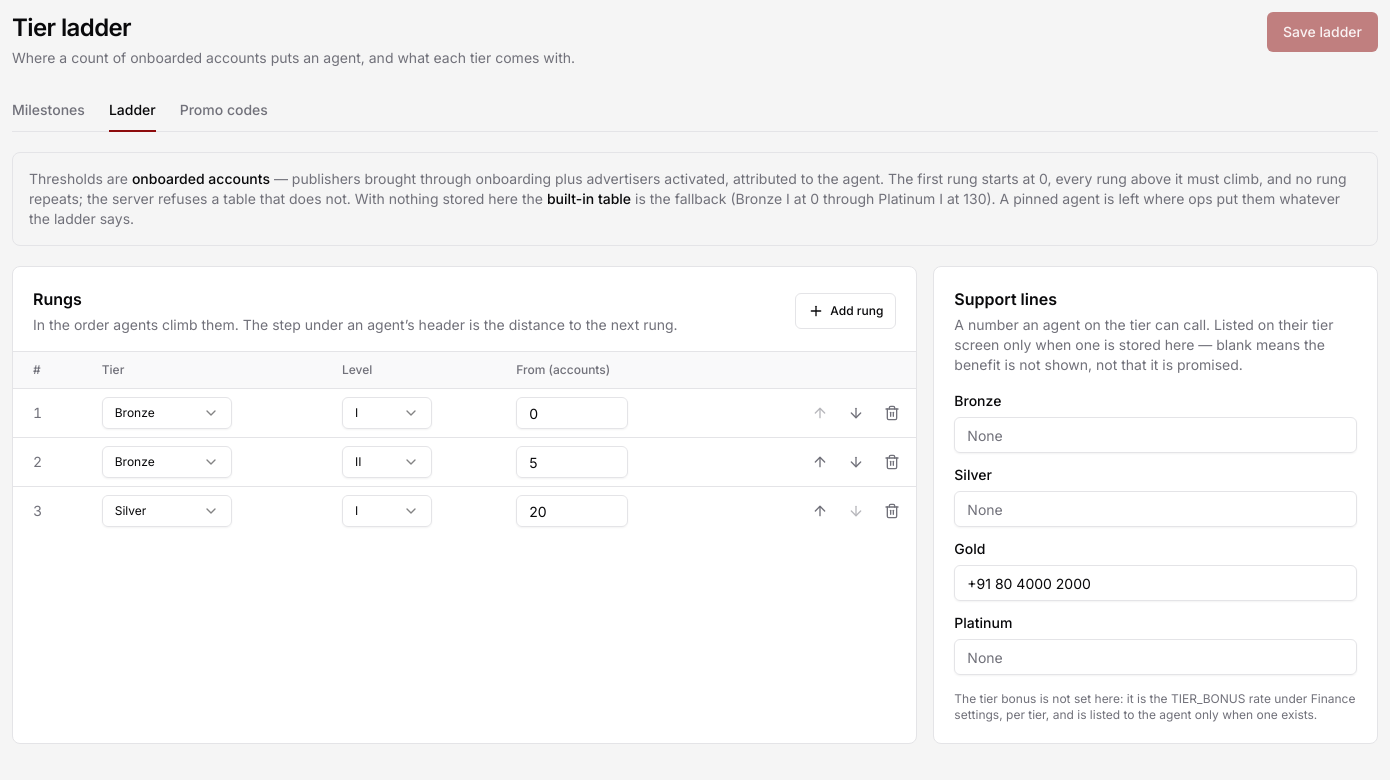
it: saving › surfaces the server's sentence beside the table when the ladder does not climb, and claims no save
Replace the text in the 3rd number field named "From" with "3": x=572, y=511 [516,495,628,527]
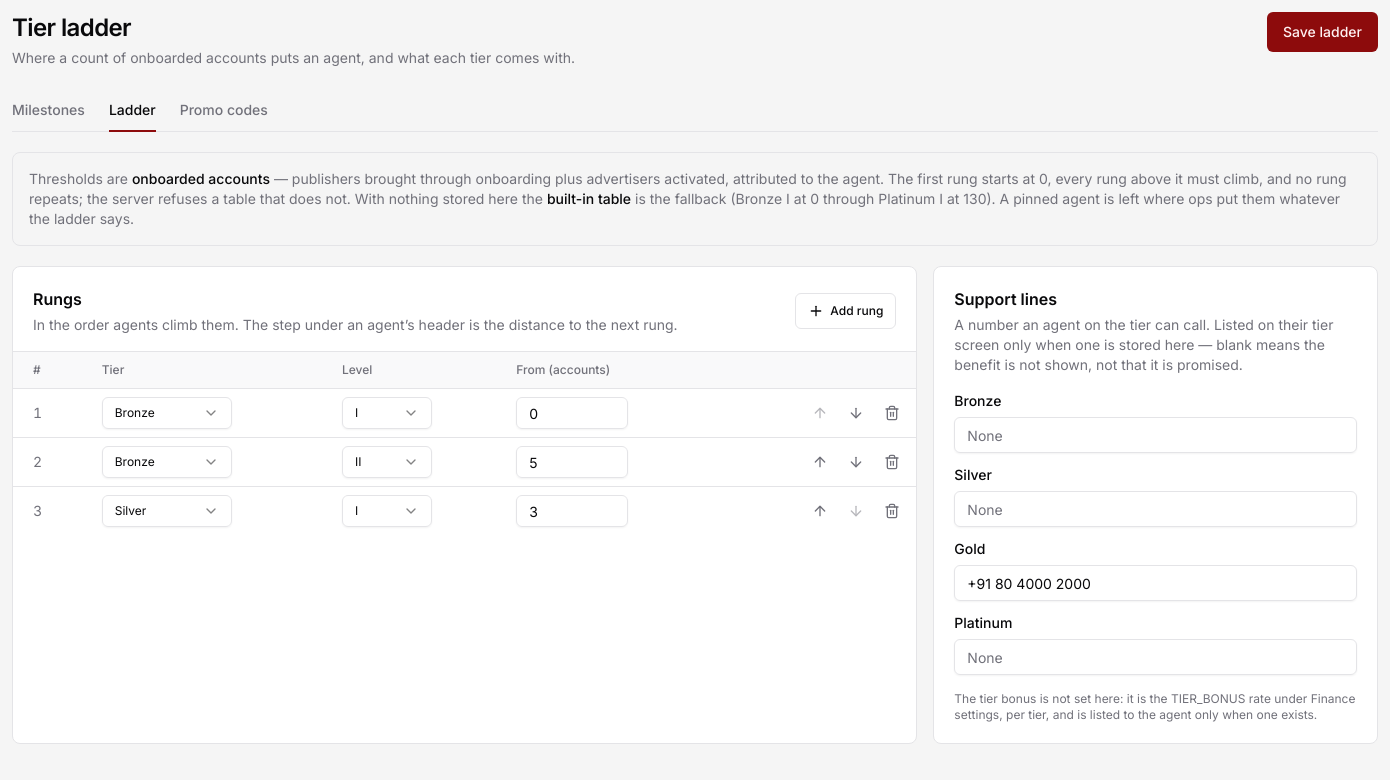
Click the button "Save ladder": x=1323, y=32 [1267,12,1378,52]
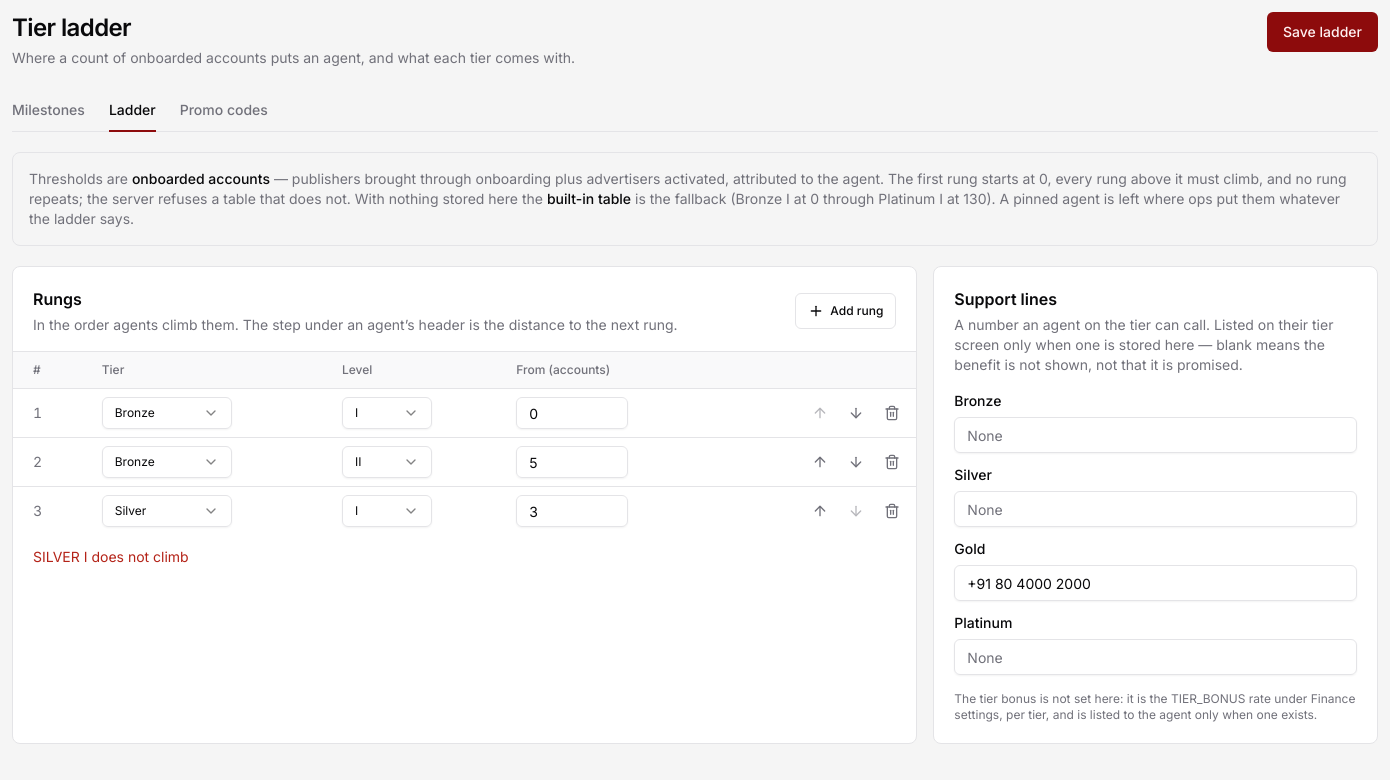
expect the text "SILVER I does not climb" is shown: met, box [33,548,189,565]
